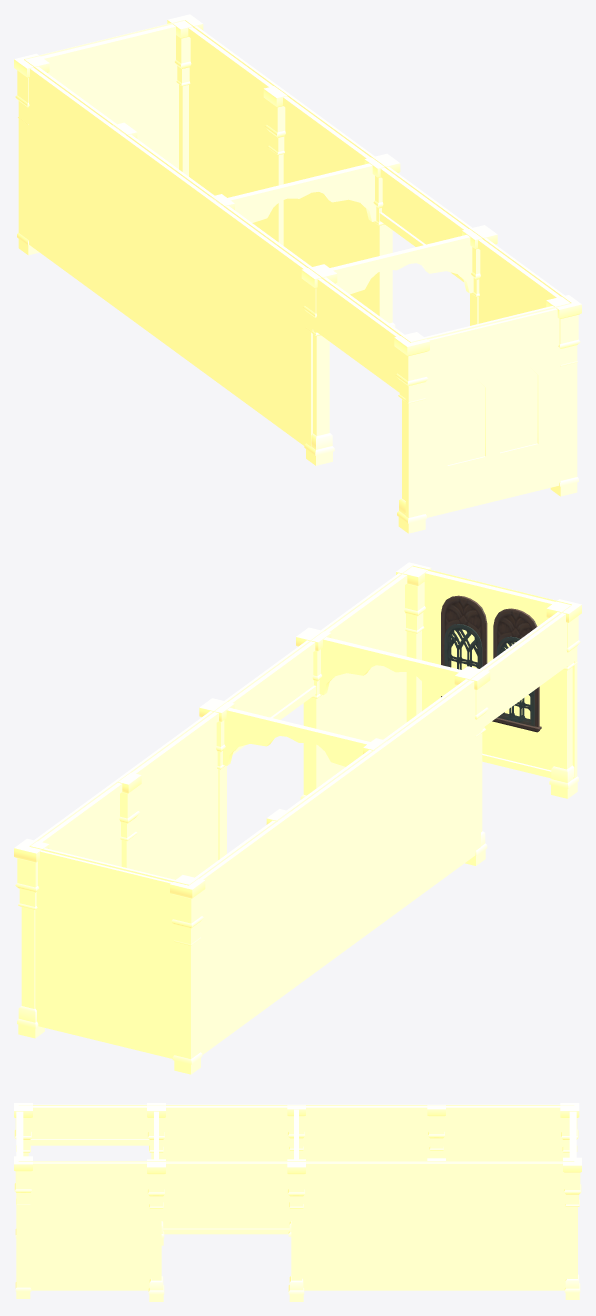
Rendered from Homeworld_Interior_Md_Room_O_Wall_01_Vo.fbx.
The picture shows the model from 3 angles, top to bottom: view 1: azimuth 30°, elevation 25°; view 2: azimuth 150°, elevation 25°; view 3: azimuth 270°, elevation 25°; orthographic projection. The views are drawn at different scales.
Parts seen in each view (by area): view 1: Homeworld_Interior_Md_Room_Wall_01_Vo (×7), Homeworld_Interior_Md_Room_Wall_02_Vo, Homeworld_Interior_Md_Room_Pillar_01_Vo (×7), Homeworld_Interior_Md_Room_Wall_08_Vo (×2), Homeworld_Interior_Md_Room_Wall_04_Vo (×2), Homeworld_Interior_Md_Room_O_Filling_01_Vo, Homeworld_Interior_Md_Room_Pillar_02_Vo; view 2: Homeworld_Interior_Md_Room_Wall_01_Vo (×7), Homeworld_Interior_Md_Room_Pillar_01_Vo (×7), Homeworld_Interior_Md_Room_Wall_02_Vo, Homeworld_Interior_Md_Room_Wall_08_Vo (×2), Homeworld_Interior_Md_Room_Wall_04_Vo (×2), Homeworld_Interior_Md_Room_O_Filling_01_Vo, Homeworld_Interior_Md_Room_Pillar_02_Vo; view 3: Homeworld_Interior_Md_Room_Wall_01_Vo (×7), Homeworld_Interior_Md_Room_Wall_08_Vo (×2), Homeworld_Interior_Md_Room_Pillar_01_Vo (×7), Homeworld_Interior_Md_Room_O_Filling_01_Vo, Homeworld_Interior_Md_Room_Pillar_02_Vo (×2), Homeworld_Interior_Md_Room_Wall_02_Vo.
Part boxes in pixels (left/top/right/bottom): Homeworld_Interior_Md_Room_Wall_01_Vo (×7): left=18, top=23, right=577, bottom=477; Homeworld_Interior_Md_Room_Wall_02_Vo: left=405, top=306, right=572, bottom=517; Homeworld_Interior_Md_Room_Pillar_01_Vo (×7): left=14, top=14, right=581, bottom=533; Homeworld_Interior_Md_Room_Wall_08_Vo (×2): left=311, top=166, right=472, bottom=399; Homeworld_Interior_Md_Room_Wall_04_Vo (×2): left=228, top=163, right=473, bottom=331; Homeworld_Interior_Md_Room_O_Filling_01_Vo: left=24, top=20, right=571, bottom=459; Homeworld_Interior_Md_Room_Pillar_02_Vo: left=263, top=86, right=286, bottom=245; Homeworld_Interior_Md_Room_Wall_01_Vo (×7): left=34, top=573, right=480, bottom=1058; Homeworld_Interior_Md_Room_Pillar_01_Vo (×7): left=14, top=562, right=581, bottom=1074; Homeworld_Interior_Md_Room_Wall_02_Vo: left=422, top=569, right=577, bottom=778; Homeworld_Interior_Md_Room_Wall_08_Vo (×2): left=224, top=612, right=577, bottom=754; Homeworld_Interior_Md_Room_Wall_04_Vo (×2): left=223, top=637, right=482, bottom=766; Homeworld_Interior_Md_Room_O_Filling_01_Vo: left=29, top=565, right=571, bottom=885; Homeworld_Interior_Md_Room_Pillar_02_Vo: left=118, top=772, right=141, bottom=869; Homeworld_Interior_Md_Room_Wall_01_Vo (×7): left=16, top=1104, right=576, bottom=1290; Homeworld_Interior_Md_Room_Wall_08_Vo (×2): left=30, top=1104, right=289, bottom=1202; Homeworld_Interior_Md_Room_Pillar_01_Vo (×7): left=14, top=1103, right=581, bottom=1301; Homeworld_Interior_Md_Room_O_Filling_01_Vo: left=18, top=1105, right=574, bottom=1162; Homeworld_Interior_Md_Room_Pillar_02_Vo (×2): left=287, top=1105, right=445, bottom=1236; Homeworld_Interior_Md_Room_Wall_02_Vo: left=16, top=1111, right=23, bottom=1156.
Size of what is drawn, in the model's own units: 5.42 by 5.36 by 20.27.
